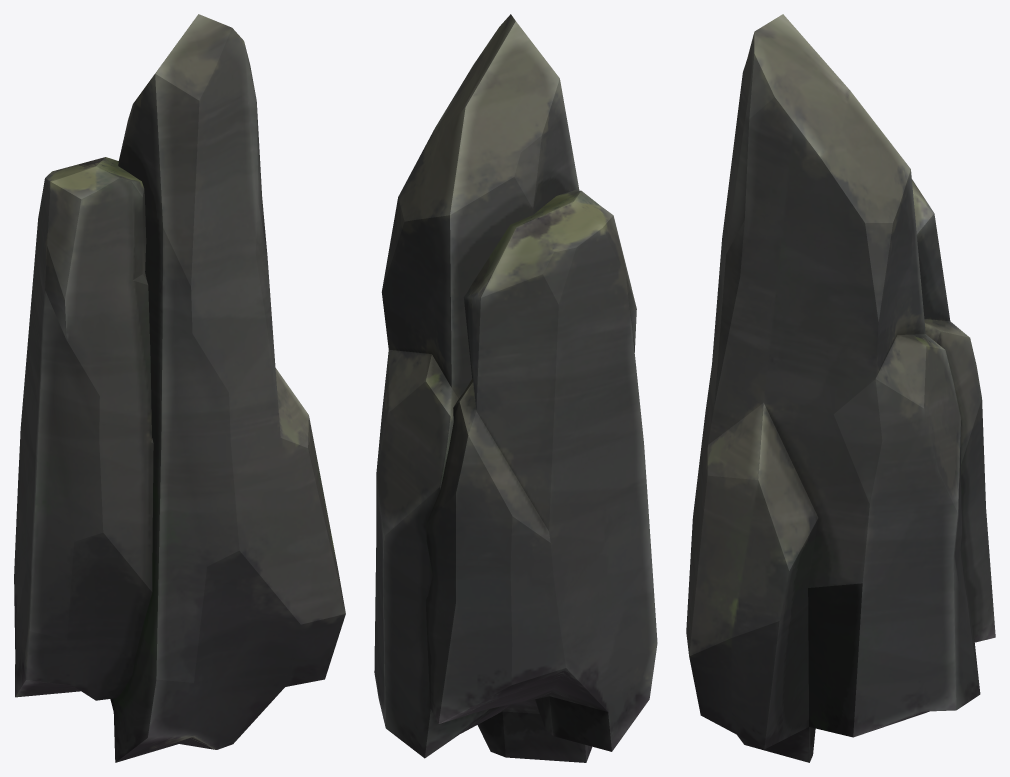
File: Rock_4.gltf
The picture shows the model from 3 angles, left to right: view 1: azimuth 30°, elevation 25°; view 2: azimuth 150°, elevation 25°; view 3: azimuth 270°, elevation 25°; orthographic projection. The views are drawn at different scales.
Visible parts, largest first — view 1: Rock_4; view 2: Rock_4; view 3: Rock_4.
Boxes of the visible parts, x1,y1,x2,y2 form: Rock_4: [14, 14, 345, 762]; Rock_4: [374, 14, 657, 762]; Rock_4: [686, 14, 995, 762].
Bounding box in the file's own units: 0.8592 × 2.15 × 0.8124.
1 material, 1 textured.
